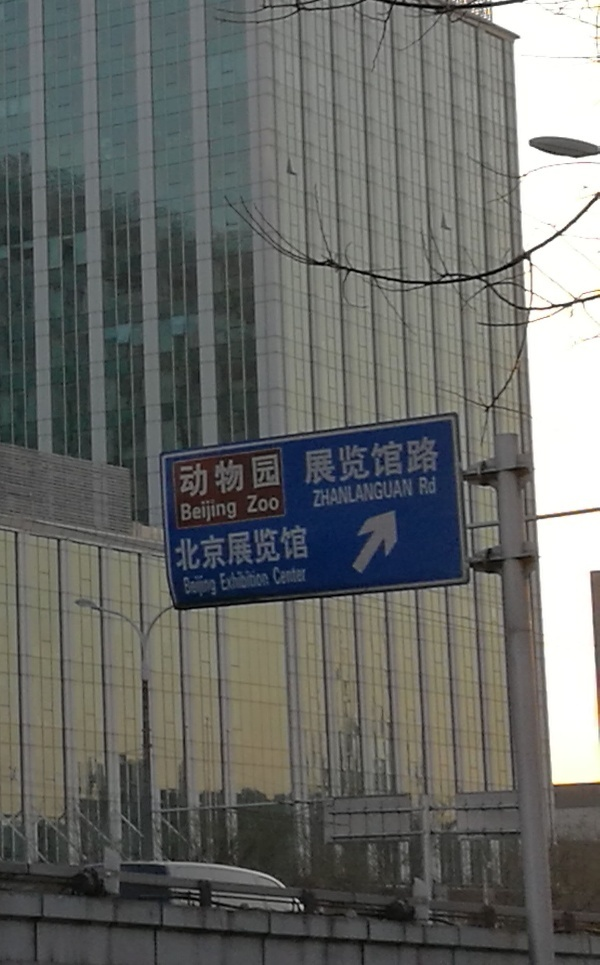text: (177, 523, 192, 575), (193, 523, 208, 575), (209, 523, 224, 575), (225, 523, 240, 575), (241, 523, 256, 575), (257, 523, 272, 575), (273, 523, 288, 575), (289, 523, 304, 575), (305, 436, 320, 486), (321, 436, 336, 486), (337, 436, 352, 486), (353, 436, 368, 486), (369, 436, 384, 486), (385, 436, 400, 486), (401, 436, 416, 486), (417, 436, 432, 486), (177, 454, 192, 499), (193, 454, 208, 499), (209, 454, 224, 499), (225, 454, 240, 499), (241, 454, 256, 499), (257, 454, 272, 499), (321, 477, 336, 510), (337, 477, 352, 510), (353, 477, 368, 510), (369, 477, 384, 510), (385, 477, 400, 510), (401, 477, 415, 510), (273, 454, 283, 499), (225, 497, 241, 525), (193, 497, 208, 525), (209, 497, 224, 525), (433, 436, 441, 486), (193, 574, 208, 600), (225, 568, 240, 592), (241, 568, 256, 592), (273, 564, 288, 587), (289, 564, 304, 587), (180, 497, 192, 525), (257, 568, 271, 592), (257, 492, 272, 513), (305, 523, 311, 575), (311, 477, 320, 510), (418, 476, 432, 497), (182, 574, 192, 600), (209, 574, 219, 600), (245, 492, 256, 513), (273, 492, 281, 513), (173, 523, 176, 575), (219, 568, 224, 592), (433, 476, 438, 497), (305, 564, 308, 587), (303, 436, 304, 486)
